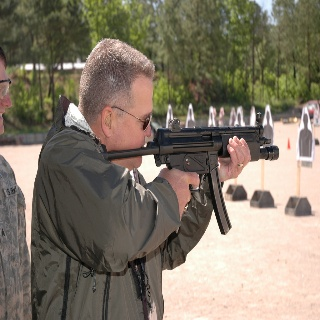rifle: (99, 110, 280, 235)
